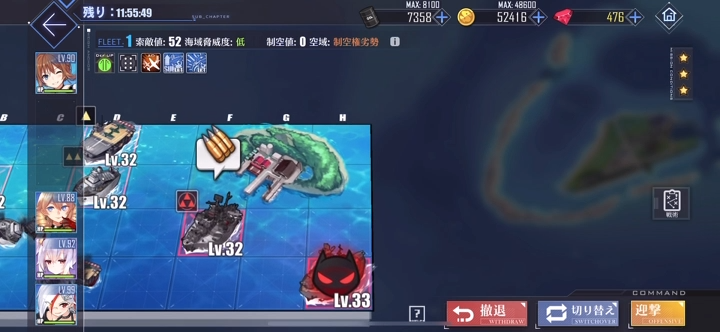boss: (302, 248, 370, 304)
lv3: (176, 189, 245, 253)
